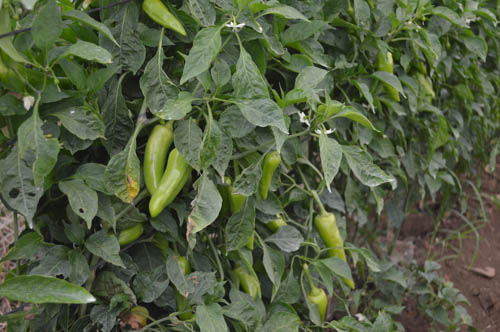ChiliPepper: (143, 154, 194, 221), (317, 213, 359, 286), (144, 128, 175, 195), (224, 184, 257, 243), (375, 51, 405, 103), (145, 1, 187, 35), (258, 154, 279, 204), (237, 265, 260, 298), (304, 291, 331, 317)
